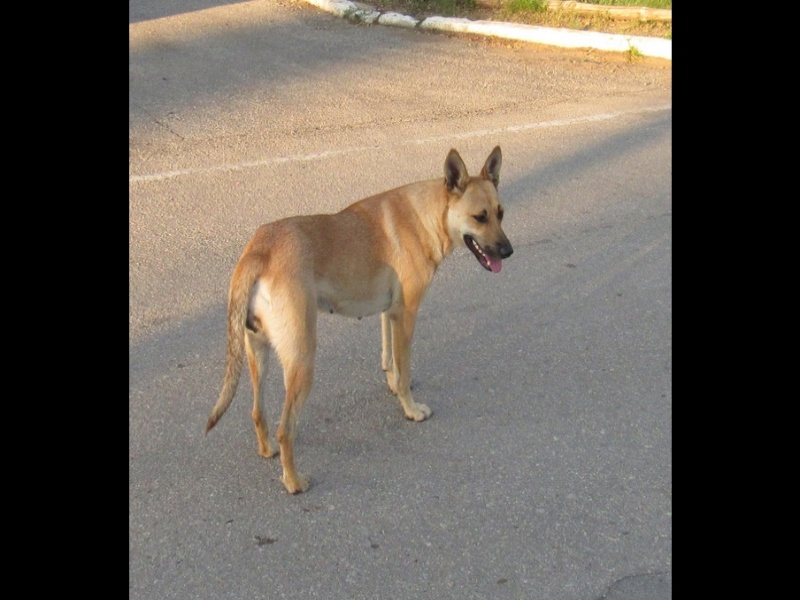dog: (211, 143, 514, 497)
